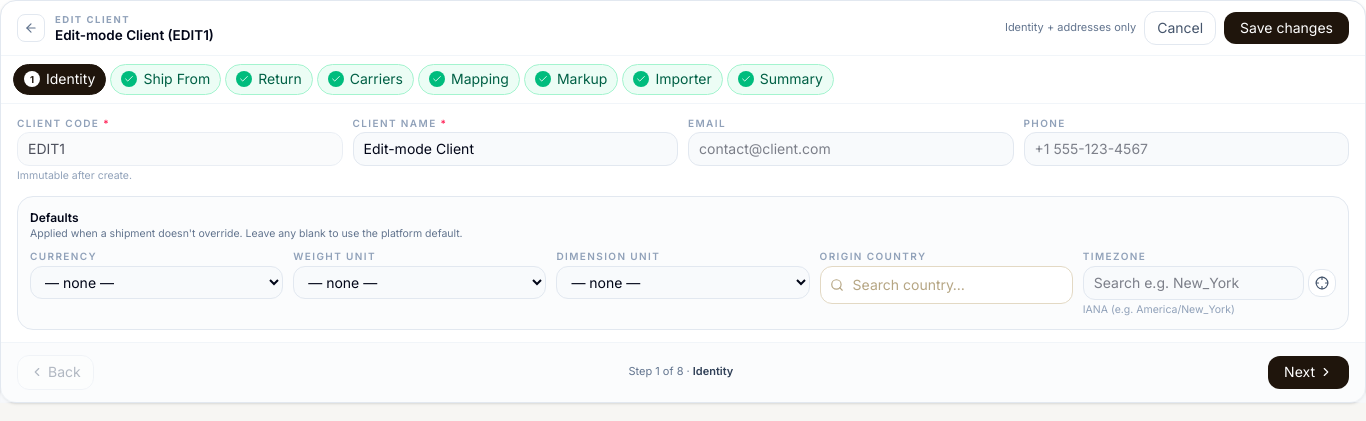
ClientEditorPage · ImporterBrokerStep (edit mode) › renders profiles fetched via customsProfileService.list(clientCode) on the Importer step
Wait for the client-load effect to settle, then jump to the step.
Click the tab "Importer".
click(673, 79)  # box [622, 64, 723, 95]
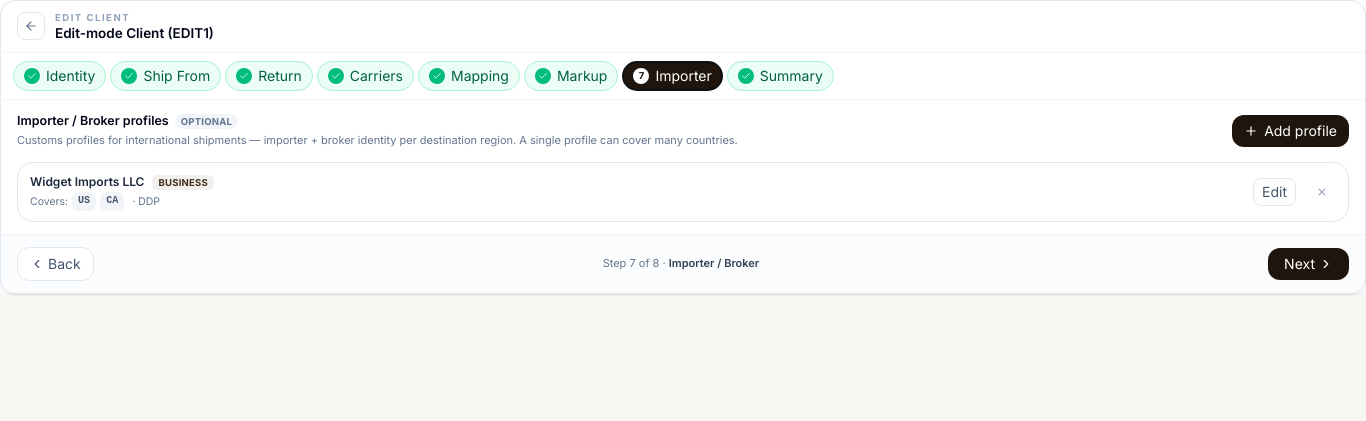
Check: the text "CA" is shown, box [100, 192, 124, 211]
Check: the text "Widget Imports LLC" is shown, box [30, 174, 144, 189]
Check: the text "US" is shown, box [72, 192, 96, 211]
